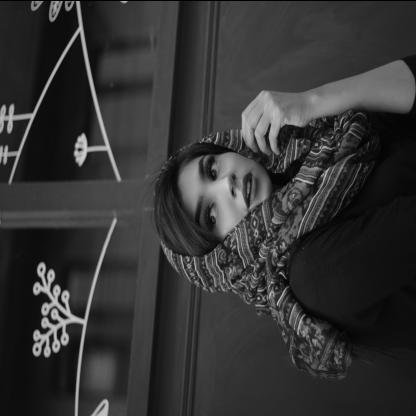Eye: (200, 201, 220, 233), (204, 154, 220, 182)
Mouth: (240, 166, 257, 210)
Nose: (212, 170, 238, 198)
